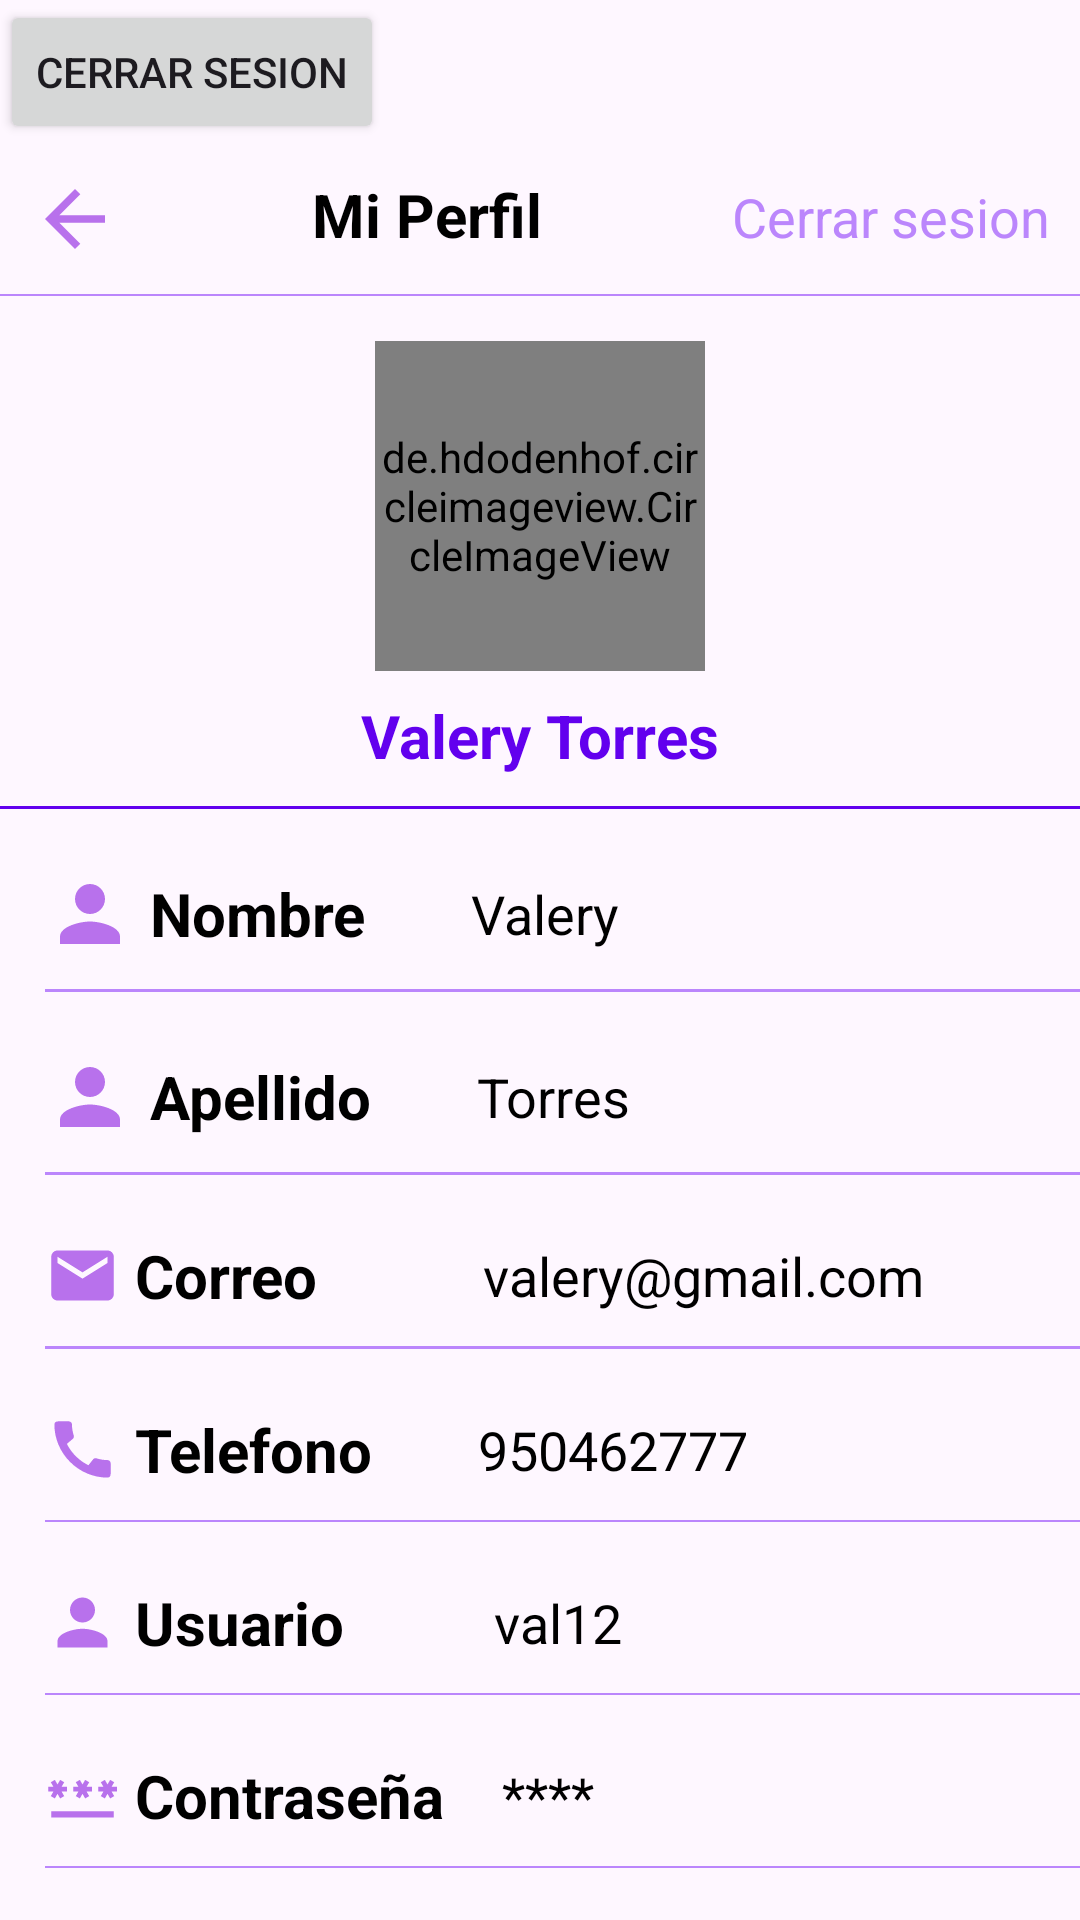

Icon click points for this 1080×1920 phone screenshot, format [x,y]:
arrow back: [75,219]
email: [82,1275]
password: [82,1799]
person: [90,914], [90,1097], [82,1622]
